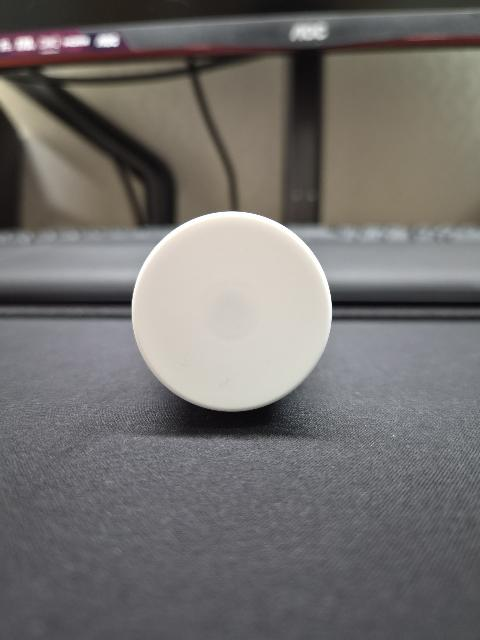handcream: (132, 211, 332, 412)
